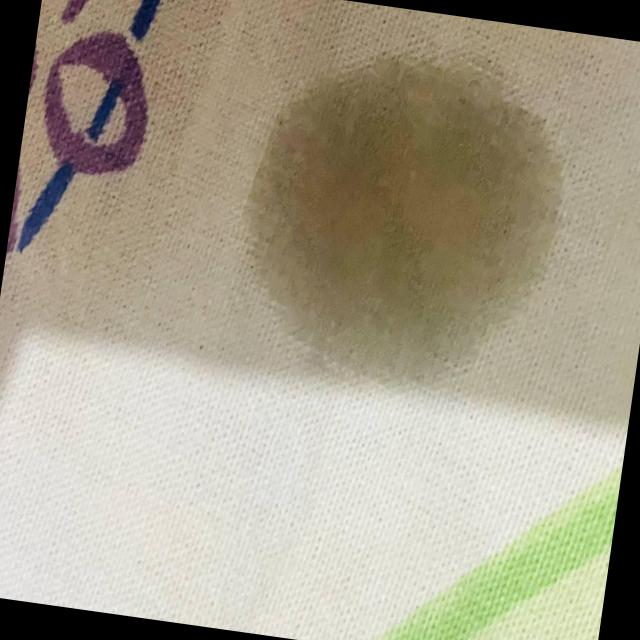stain: (219, 39, 577, 406)
